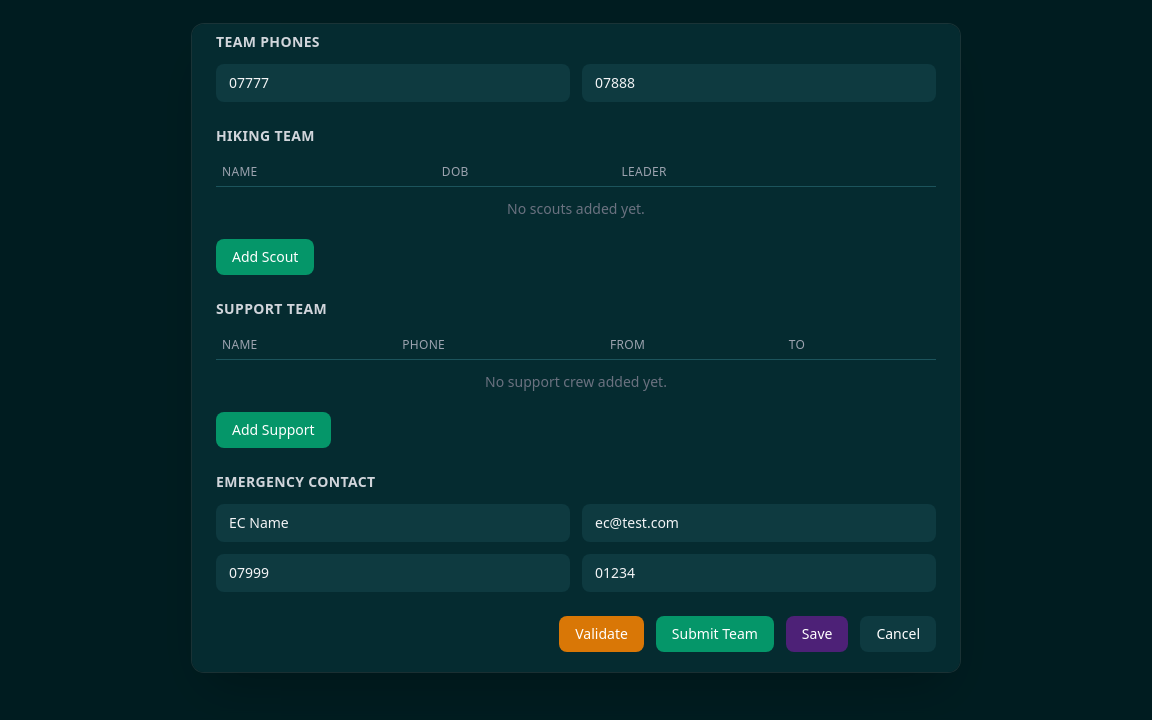
Test: TeamDialog - Validate feedback › shows only the error banner (no success banner) when the team is invalid
(page scrolled)
Click the button "Validate" at (602, 634), box [559,616,644,652]
(page scrolled)
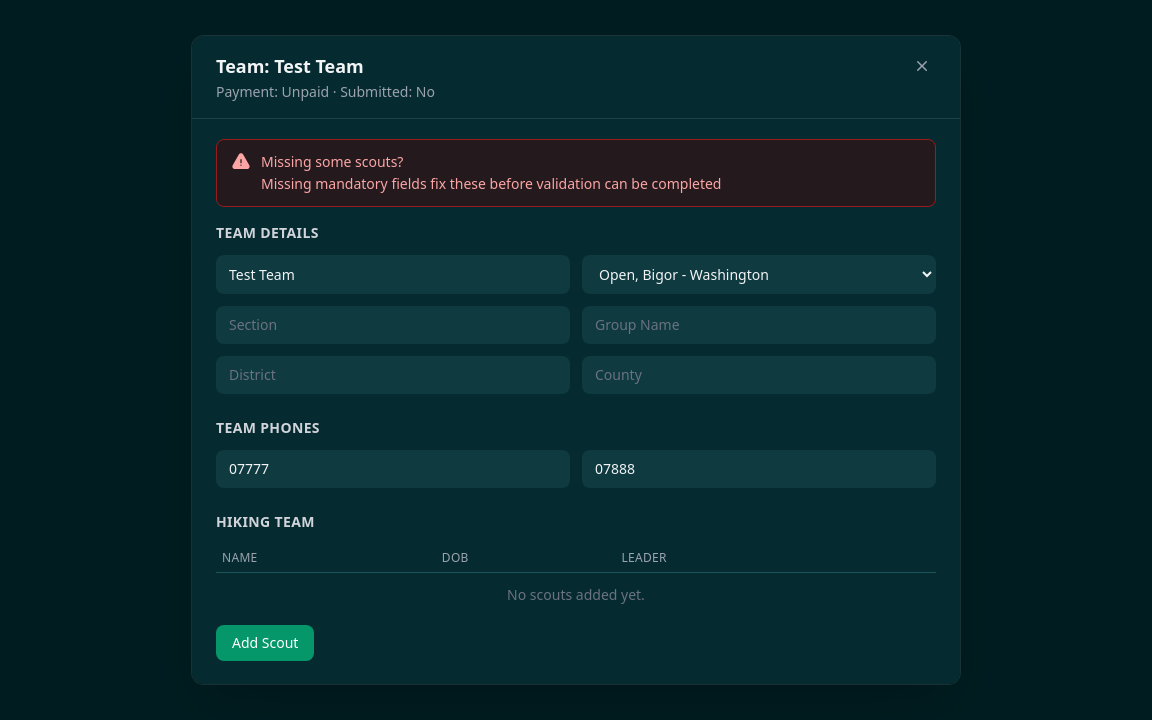
Expected: the text "Missing some scouts?" is shown, [261,152,403,171]
